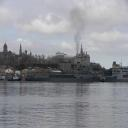Portanaves: (24, 61, 121, 86)
